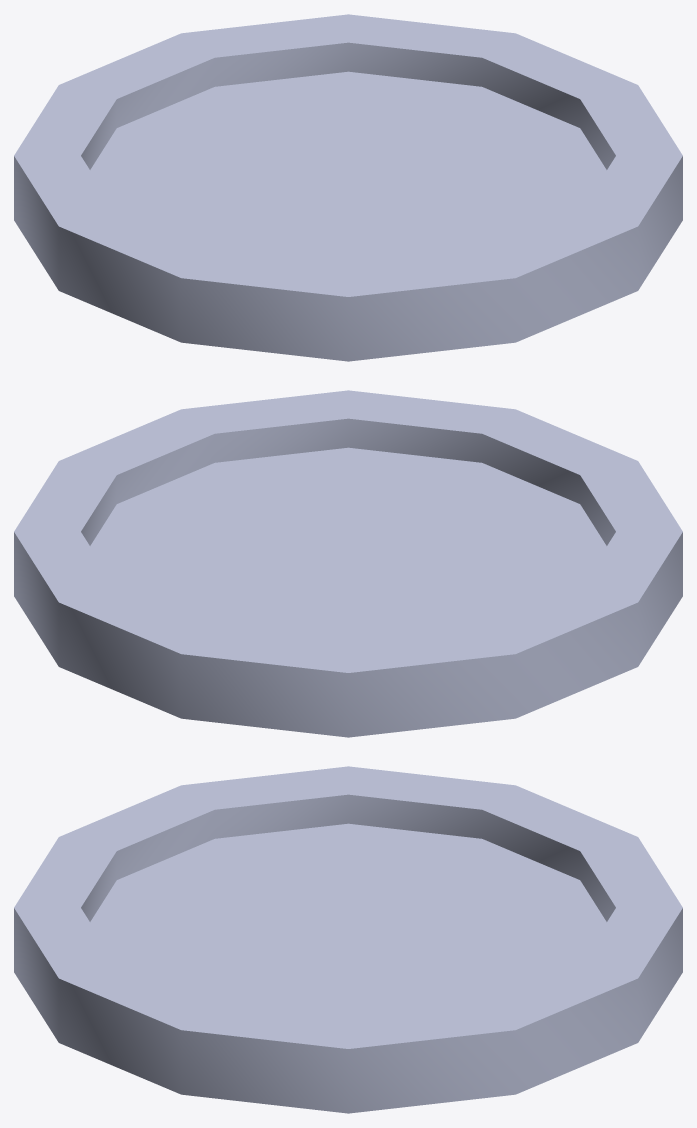
The model's file is plate.glb.
3 renders of one model, top to bottom at view 1: azimuth 30°, elevation 25°; view 2: azimuth 150°, elevation 25°; view 3: azimuth 270°, elevation 25°, orthographic.
Parts seen in each view (by area): view 1: Plate2; view 2: Plate2; view 3: Plate2.
Boxes of the visible parts, <box> form: Plate2: <box>14,14,682,361</box>; Plate2: <box>14,390,682,737</box>; Plate2: <box>14,766,682,1113</box>.
Size of the model in its own units: 0.8556 by 0.091 by 0.8556.
